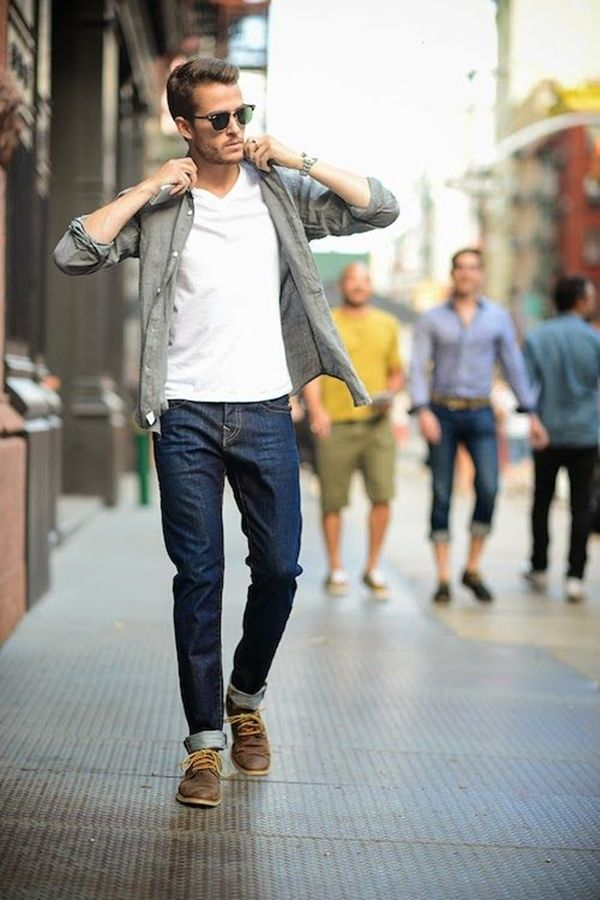NOTSAFE: (134, 52, 307, 457)
